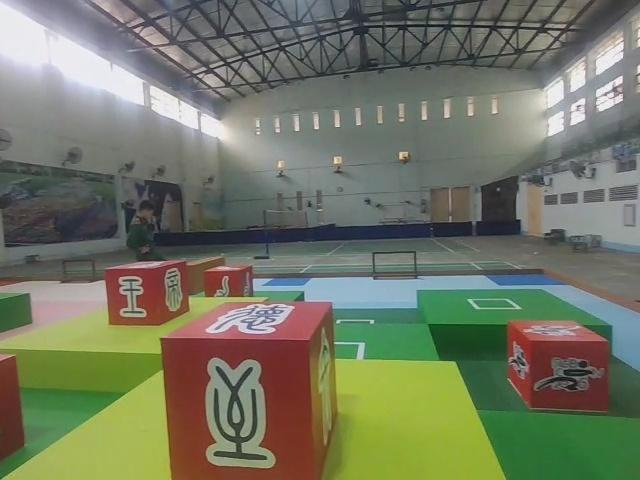R1: (508, 317, 609, 414)
R2 Fake: (161, 300, 333, 480), (105, 257, 190, 325)
R2 Real: (206, 263, 254, 301)
